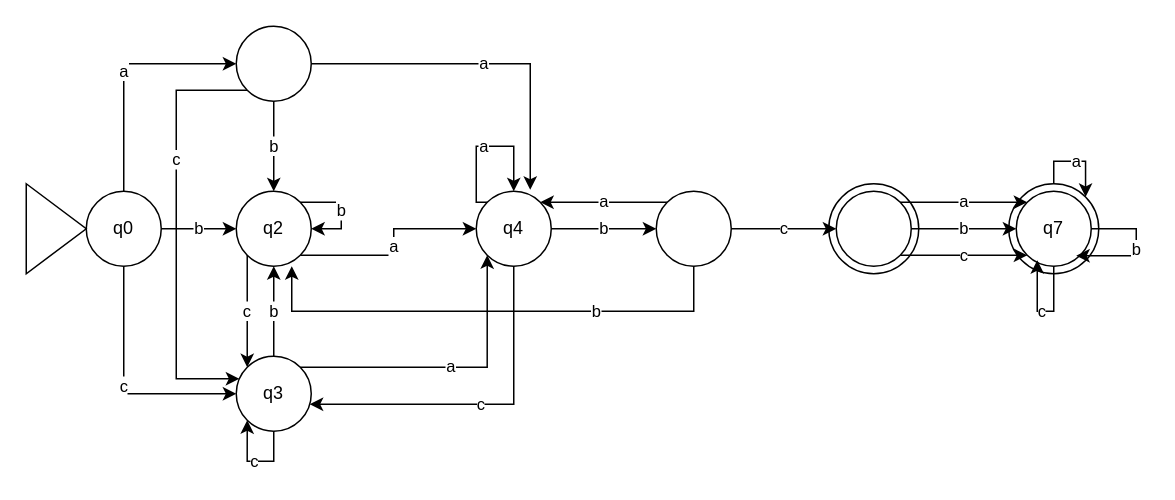
Some shapes in this 1175 by 500 pixel diagram are drawn without their labels. The centre of each missing label's shape, as x and y in pixels:
"q1" belongs at (273,63).
"q5" belongs at (693,228).
"q6" belongs at (873,228).
